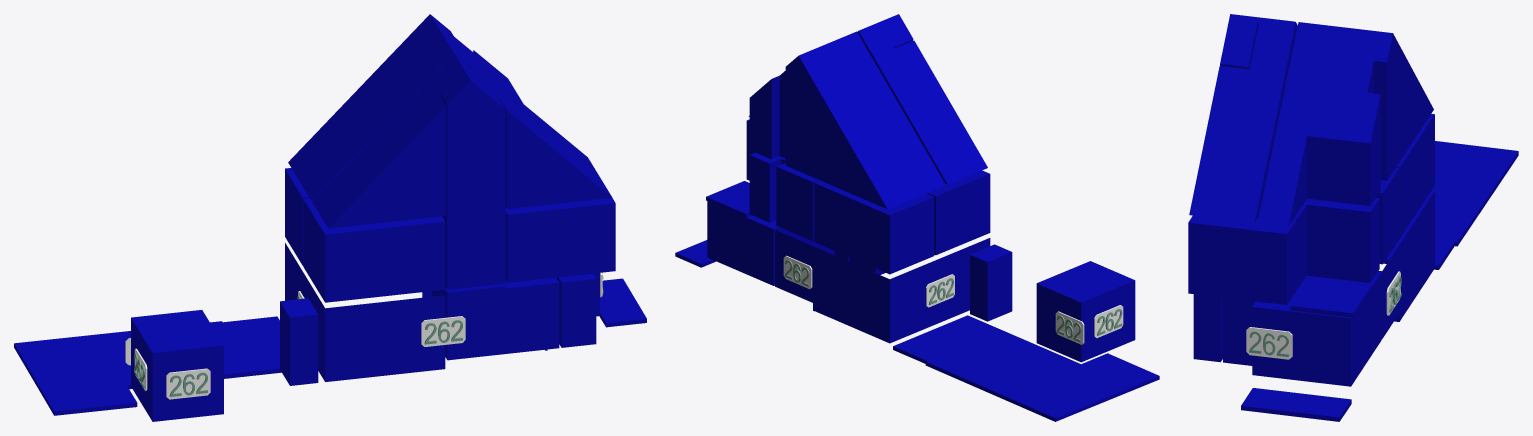
3 renders of one model, left to right at view 1: azimuth 30°, elevation 25°; view 2: azimuth 150°, elevation 25°; view 3: azimuth 270°, elevation 25°, orthographic. The views are drawn at different scales.
Visible parts, largest first — view 1: g_7, g_6, g_17, g_9, g_1, g_14, g_8, g_2, g_5, g_13, g_4, g_3 (+4 smaller); view 2: g_6, g_17, g_1, g_10, g_7, g_5, g_0, g_9, g_4, g_12, g_14, g_16 (+6 smaller); view 3: g_6, g_14, g_7, g_0, g_17, g_1, g_10, g_15, g_16, g_3, g_2, g_12 (+2 smaller).
Boxes of the visible parts, left/top/right/bottom form: g_7: left=312, top=53, right=612, bottom=228; g_6: left=288, top=14, right=595, bottom=200; g_17: left=14, top=316, right=281, bottom=415; g_9: left=303, top=198, right=445, bottom=302; g_1: left=285, top=243, right=445, bottom=381; g_14: left=505, top=197, right=615, bottom=282; g_8: left=439, top=67, right=505, bottom=215; g_2: left=432, top=277, right=559, bottom=360; g_5: left=131, top=310, right=223, bottom=421; g_13: left=442, top=209, right=505, bottom=289; g_4: left=280, top=298, right=318, bottom=385; g_3: left=556, top=273, right=596, bottom=347; g_6: left=748, top=31, right=945, bottom=209; g_17: left=893, top=315, right=1159, bottom=421; g_1: left=775, top=230, right=990, bottom=343; g_10: left=814, top=180, right=934, bottom=274; g_7: left=857, top=22, right=987, bottom=184; g_5: left=1036, top=261, right=1135, bottom=362; g_0: left=707, top=201, right=834, bottom=285; g_9: left=927, top=170, right=990, bottom=255; g_4: left=970, top=244, right=1012, bottom=321; g_12: left=776, top=163, right=819, bottom=241; g_14: left=746, top=119, right=785, bottom=222; g_16: left=706, top=181, right=751, bottom=217; g_6: left=1257, top=22, right=1433, bottom=226; g_14: left=1188, top=198, right=1379, bottom=304; g_7: left=1189, top=17, right=1297, bottom=222; g_0: left=1252, top=271, right=1381, bottom=386; g_17: left=1383, top=141, right=1518, bottom=269; g_1: left=1378, top=191, right=1434, bottom=338; g_10: left=1396, top=114, right=1434, bottom=237; g_15: left=1241, top=388, right=1351, bottom=421; g_16: left=1290, top=278, right=1371, bottom=317; g_3: left=1193, top=294, right=1222, bottom=362; g_2: left=1223, top=297, right=1255, bottom=365; g_12: left=1376, top=167, right=1399, bottom=264.
Bounding box in the file's own units: 20.76 × 10.25 × 10.11.
